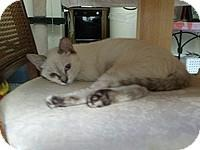siamese: (27, 34, 85, 90)
